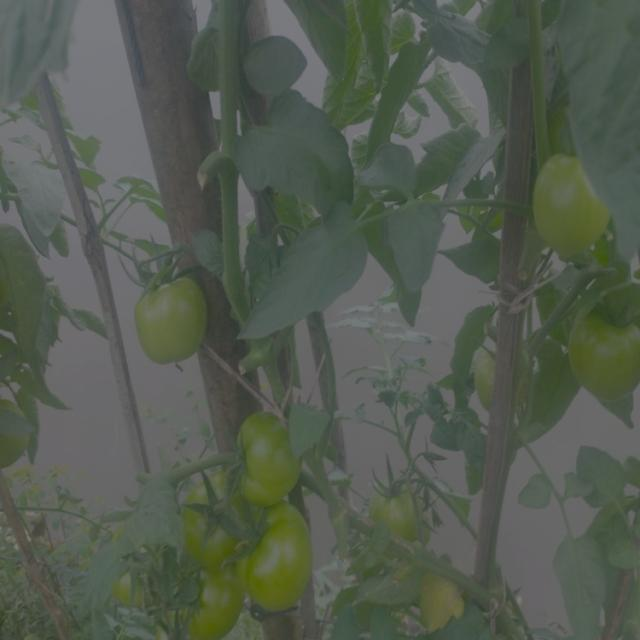tomato: (533, 154, 624, 266), (130, 257, 213, 364), (241, 505, 313, 615), (230, 408, 313, 503), (564, 304, 640, 404), (174, 475, 243, 561), (170, 569, 237, 640), (369, 466, 431, 539), (412, 567, 477, 636), (473, 344, 527, 411), (115, 566, 166, 616), (1, 405, 31, 469)
